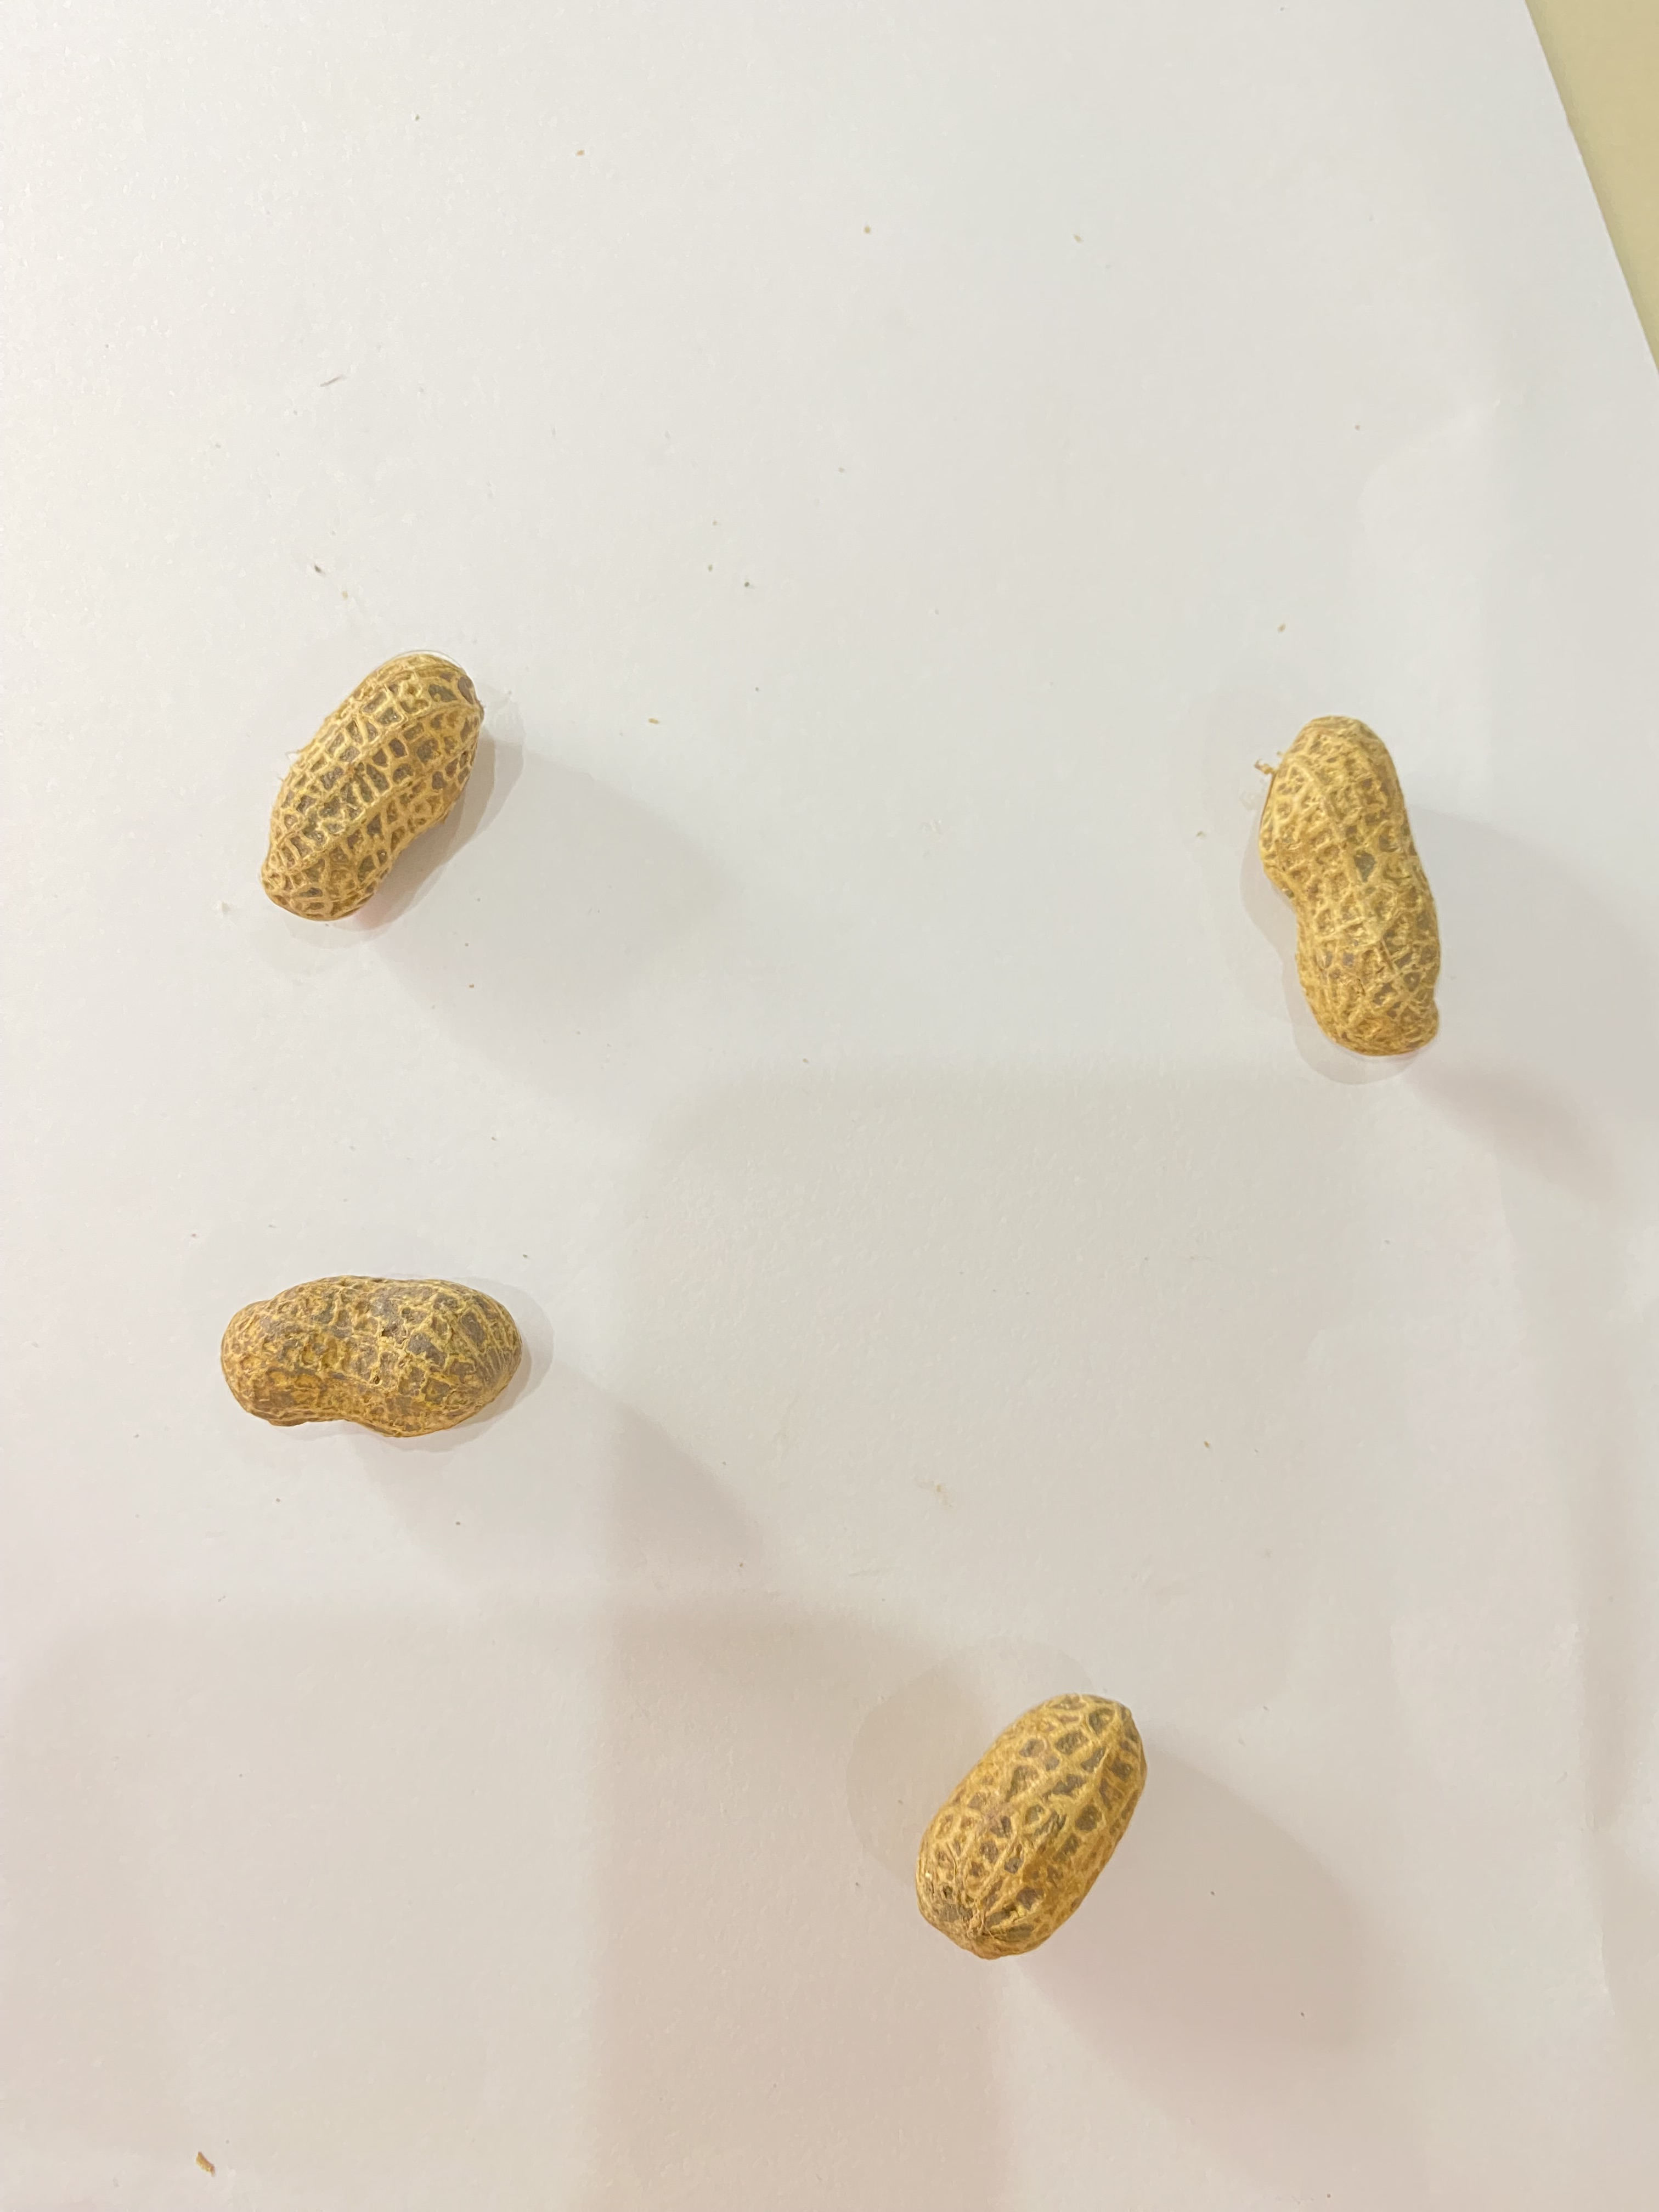kacang2: (1222, 698, 1504, 1123), (830, 1677, 1209, 1979), (193, 615, 549, 918), (192, 1264, 547, 1442)
